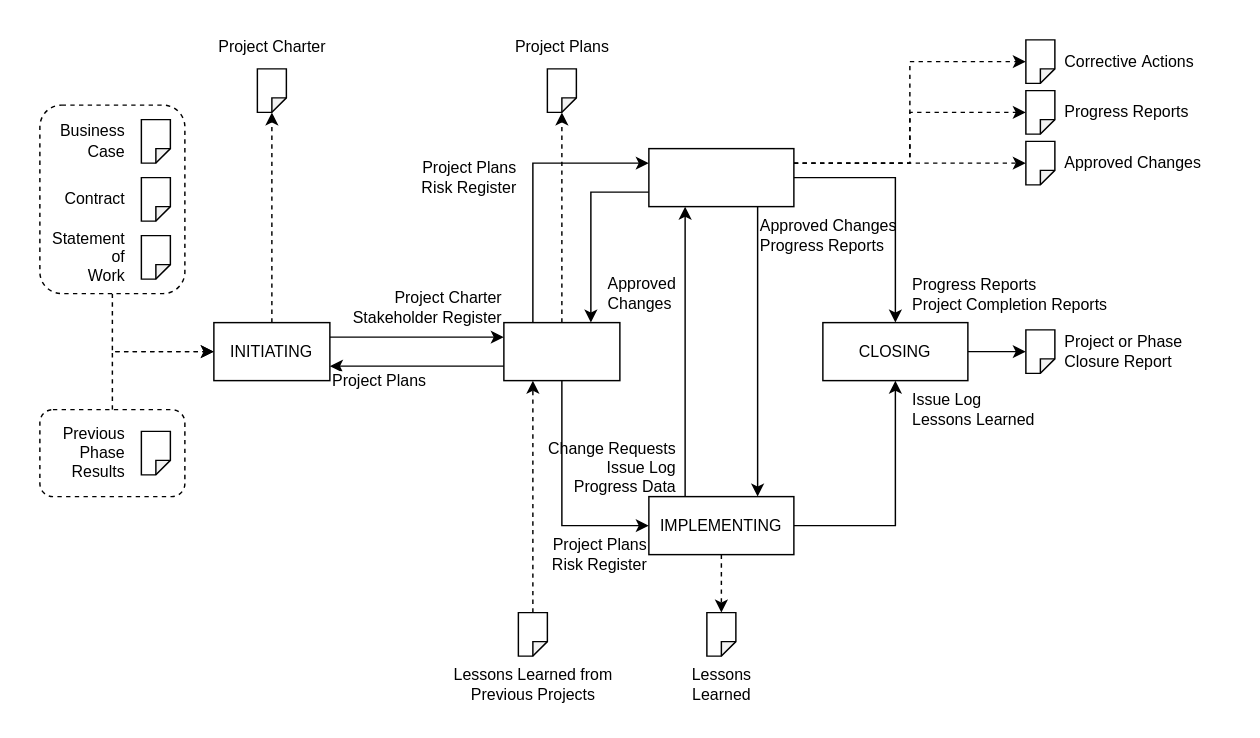
The diagram is 1260 pixels wide and 738 high, and some of its shapes have lost their labels. The centre of each missing label's shape, as x and y in pixels:
CONTROLLING: [720,177]
PLANNING: [561,351]
